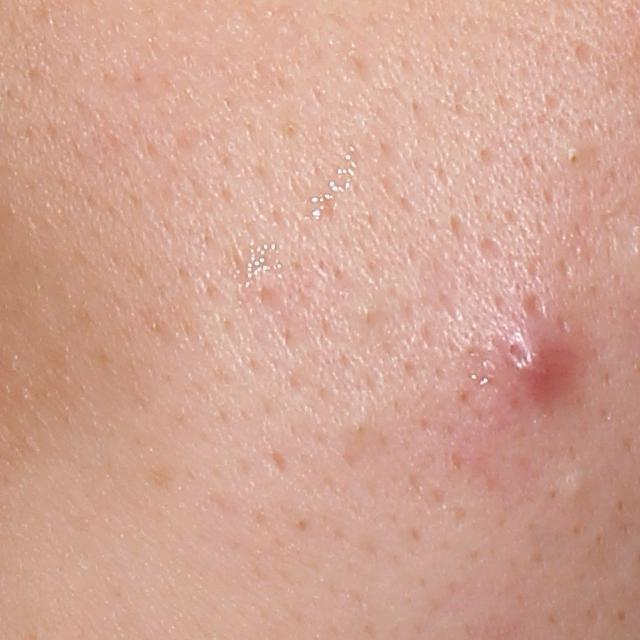atrophic_scar: (516, 288, 551, 321), (570, 36, 597, 63), (270, 448, 292, 476)
comedo: (558, 468, 590, 504), (564, 145, 583, 172)
papule: (510, 330, 565, 400)
